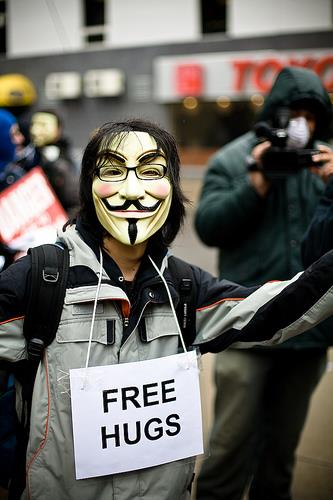V4Vendetta_mask: (92, 130, 174, 246)
